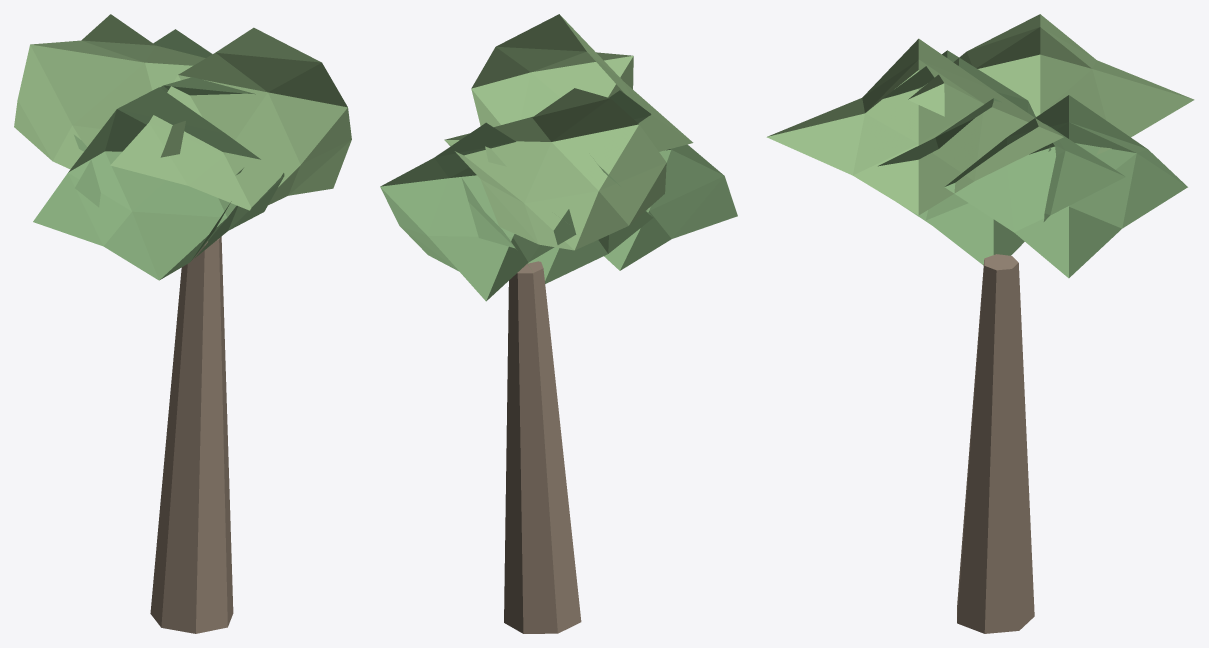
Rendered from broadleaf_v19.glb.
3 renders of one model, left to right at view 1: azimuth 30°, elevation 25°; view 2: azimuth 150°, elevation 25°; view 3: azimuth 270°, elevation 25°, orthographic. The views are drawn at different scales.
Visible parts, largest first — view 1: lod0; view 2: lod0; view 3: lod0.
Boxes of the visible parts, <box> form: lod0: <box>14,14,351,633</box>; lod0: <box>380,14,737,633</box>; lod0: <box>766,14,1194,633</box>.
Size of what is drawn, in the model's own units: 3.12 by 5.72 by 3.77.
